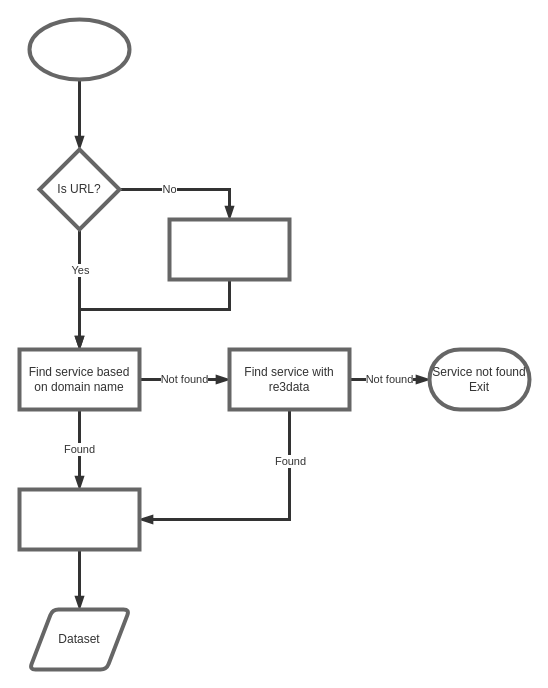
The diagram is 548 pixels wide and 688 high, and some of its shapes have lost their labels. Here are the shapes that lost their labels. From the top down, the centre of each, then its label:
At point (79, 49): "DOI or URL".
At point (229, 249): "Redirect DOI to URL".
At point (79, 519): "Download dataset".
